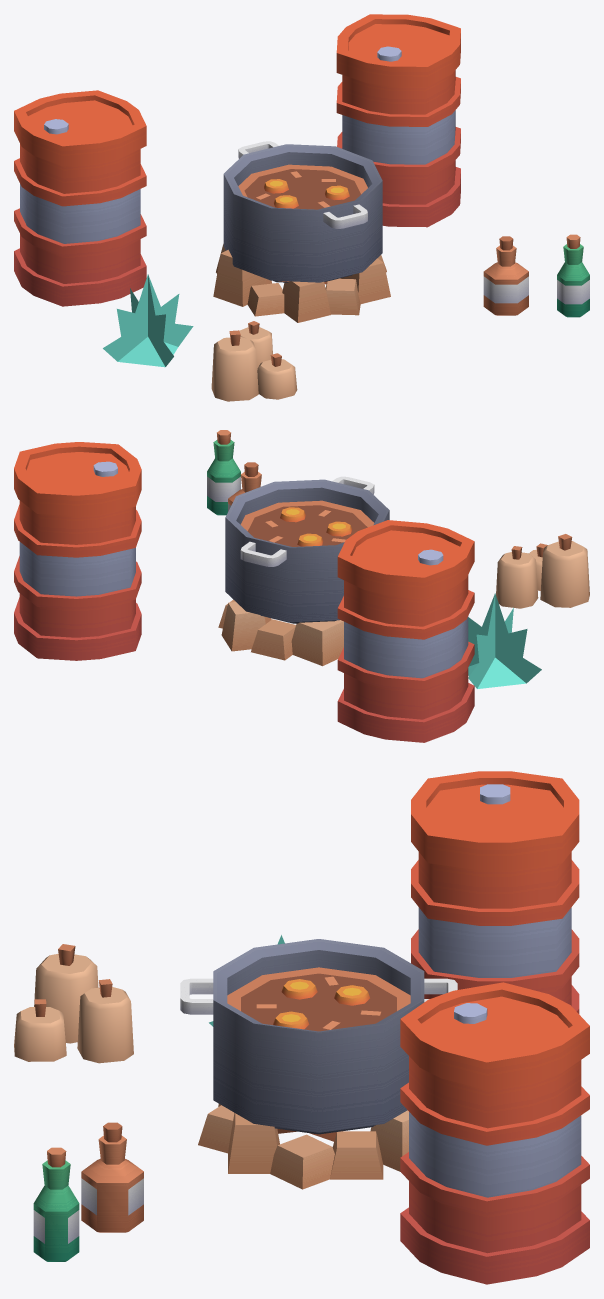
Rendered from bld_brewery_2x2.glb.
The picture shows the model from 3 angles, top to bottom: view 1: azimuth 30°, elevation 25°; view 2: azimuth 150°, elevation 25°; view 3: azimuth 270°, elevation 25°; orthographic projection. The views are drawn at different scales.
Visible parts, largest first — view 1: barrel, barrel2, pot-stew, campfire-pit, candle-multiple, plant_flatShort, bottle-large, bottle; view 2: barrel, barrel2, pot-stew, candle-multiple, campfire-pit, plant_flatShort, bottle, bottle-large; view 3: barrel2, pot-stew, barrel, candle-multiple, campfire-pit, bottle-large, bottle.
Boxes of the visible parts, box(x1,y1,x2,y2) form: barrel: box(14, 90, 146, 306); barrel2: box(336, 14, 460, 227); pot-stew: box(223, 141, 382, 282); campfire-pit: box(213, 244, 390, 322); candle-multiple: box(211, 321, 297, 401); plant_flatShort: box(103, 274, 193, 367); bottle-large: box(483, 236, 528, 315); bottle: box(557, 234, 589, 317); barrel: box(337, 520, 474, 742); barrel2: box(14, 442, 141, 660); pot-stew: box(225, 476, 389, 623); candle-multiple: box(496, 534, 589, 608); campfire-pit: box(218, 599, 343, 666); plant_flatShort: box(468, 593, 541, 688); bottle: box(207, 430, 240, 515); bottle-large: box(228, 462, 261, 511); barrel2: box(400, 982, 589, 1284); pot-stew: box(180, 939, 457, 1134); barrel: box(411, 771, 579, 1013); candle-multiple: box(14, 944, 133, 1063); campfire-pit: box(198, 1104, 408, 1189); bottle-large: box(81, 1122, 143, 1232); bottle: box(33, 1147, 79, 1261).
Bounding box in the file's own units: 1.85 × 0.7236 × 1.54.
Materials: 7 (6 with a texture image).
